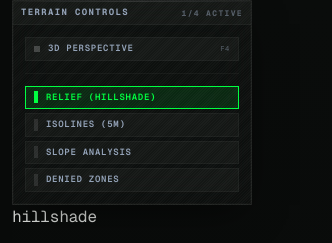
Scenario: app shell integrations › updates render state before map bindings apply visibility changes
Expected: the text with test id "active-layers" reads "hillshade", [12,206,97,226]
Click the button "Denied Zones". click: (132, 180)
box: [25,168,239,192]
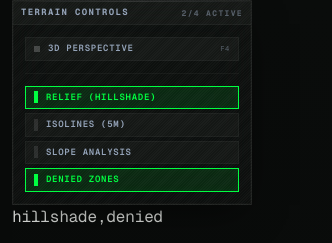
Expected: the text with test id "active-layers" shows "denied", [12,206,163,226]
